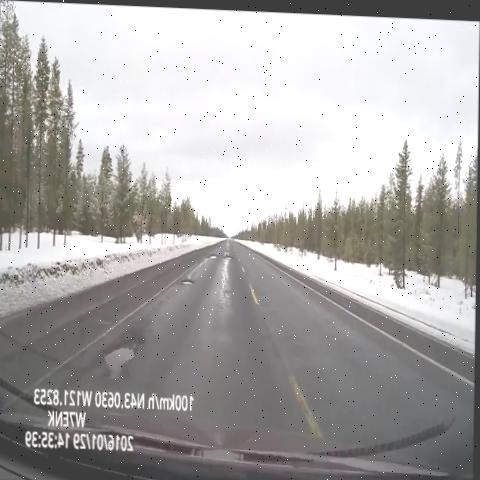pothole: (96, 310, 150, 386), (178, 270, 202, 292), (222, 246, 238, 267), (206, 245, 222, 263)
